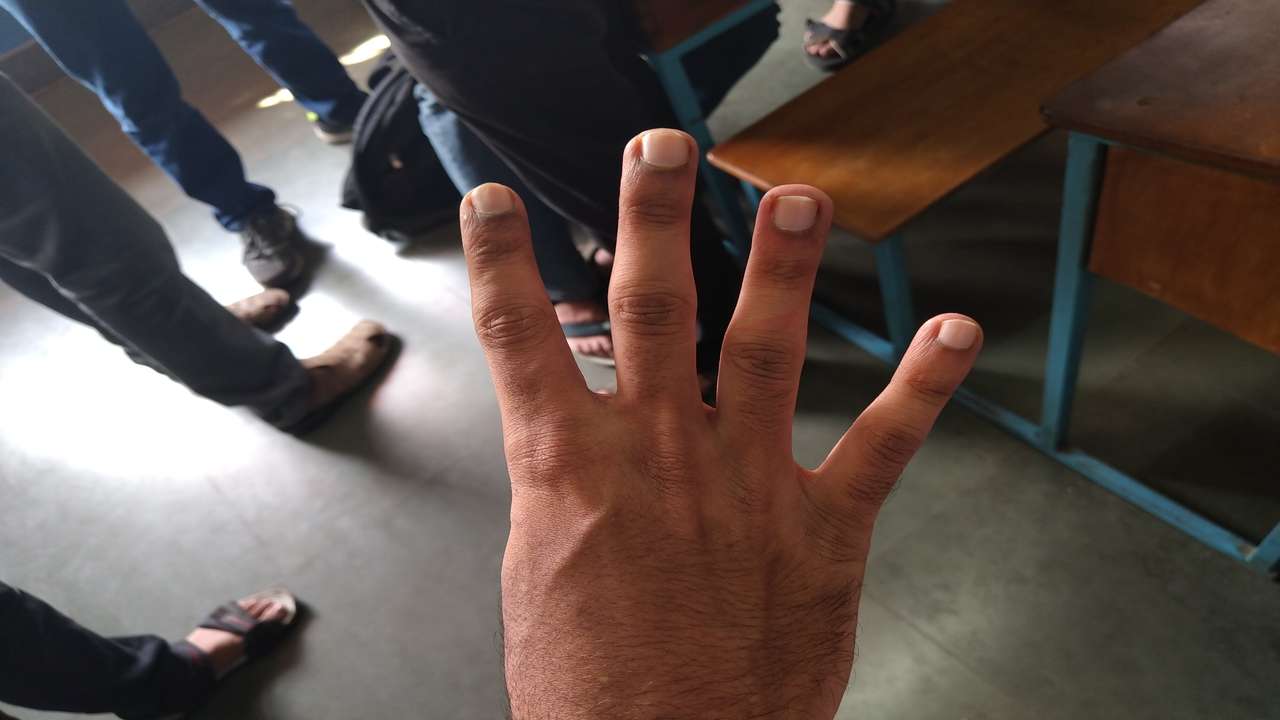fingertip: (612, 122, 704, 192), (758, 176, 836, 246), (910, 312, 994, 374), (450, 174, 528, 240)
